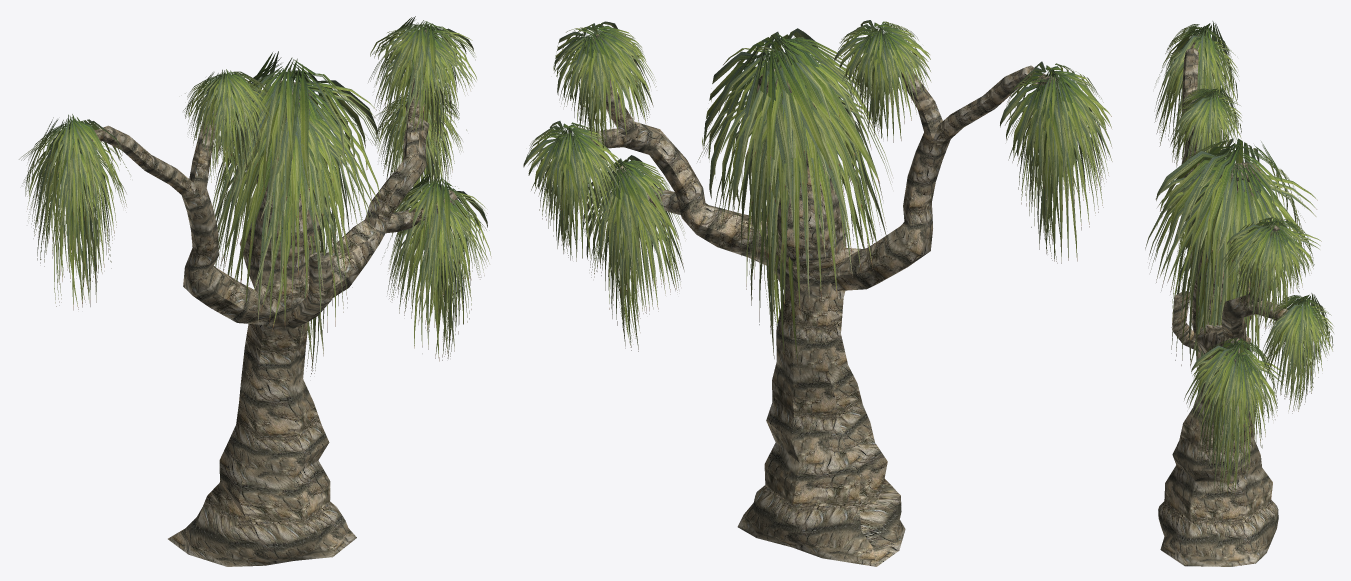
File: Desert_Tree2.FBX
3 renders of one model, left to right at view 1: azimuth 30°, elevation 25°; view 2: azimuth 150°, elevation 25°; view 3: azimuth 270°, elevation 25°, orthographic. The views are drawn at different scales.
Visible parts, largest first — view 1: Mesh Object; view 2: Mesh Object; view 3: Mesh Object.
Boxes of the visible parts, x1,y1,x2,y2 form: Mesh Object: (19,16,491,566); Mesh Object: (523,20,1112,566); Mesh Object: (1145,21,1333,566).
Size of the model in its own units: 19.17 by 18.06 by 7.43.
